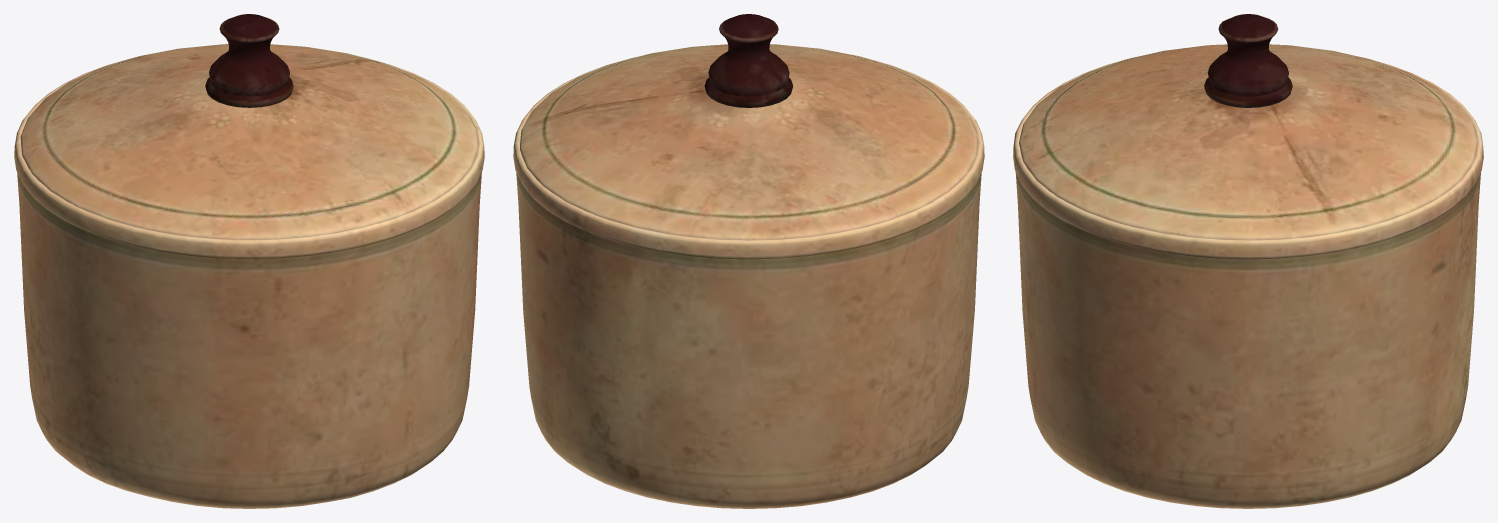
File: brass_pot_01.glb
3 views of the same model, side by side, from view 1: azimuth 30°, elevation 25°; view 2: azimuth 150°, elevation 25°; view 3: azimuth 270°, elevation 25° (orthographic).
Visible parts, largest first — view 1: brass_pot_01; view 2: brass_pot_01; view 3: brass_pot_01.
Part boxes in pixels (x1,y1,x2,y2): brass_pot_01: (14, 14, 484, 508); brass_pot_01: (513, 14, 984, 508); brass_pot_01: (1013, 14, 1483, 508).
Bounding box in the file's own units: 0.3019 × 0.291 × 0.3017.
Materials: 1 (1 with a texture image).
